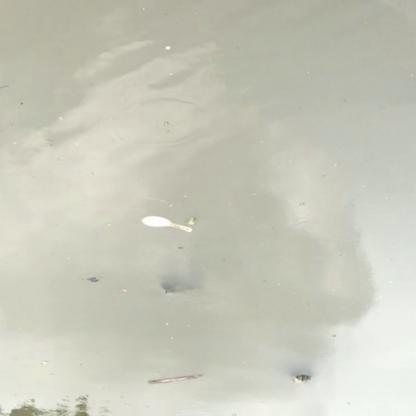Trash: (142, 211, 194, 235)
